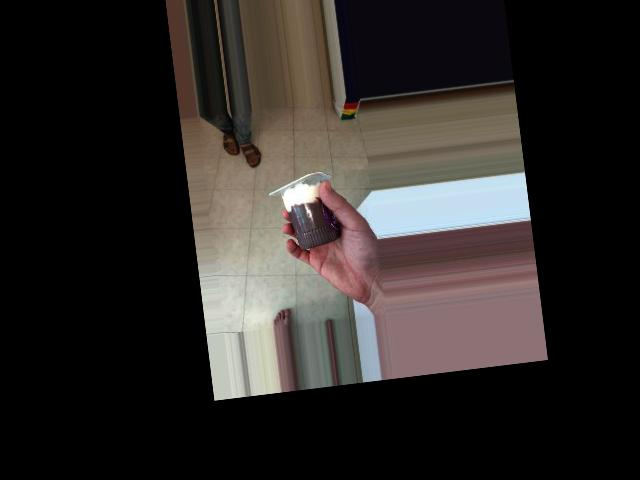milky: (280, 168, 337, 255)
